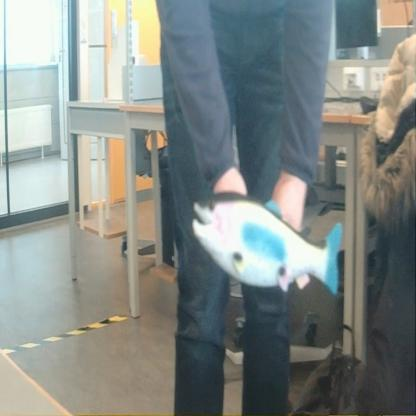rubberfish: (187, 180, 344, 302)
